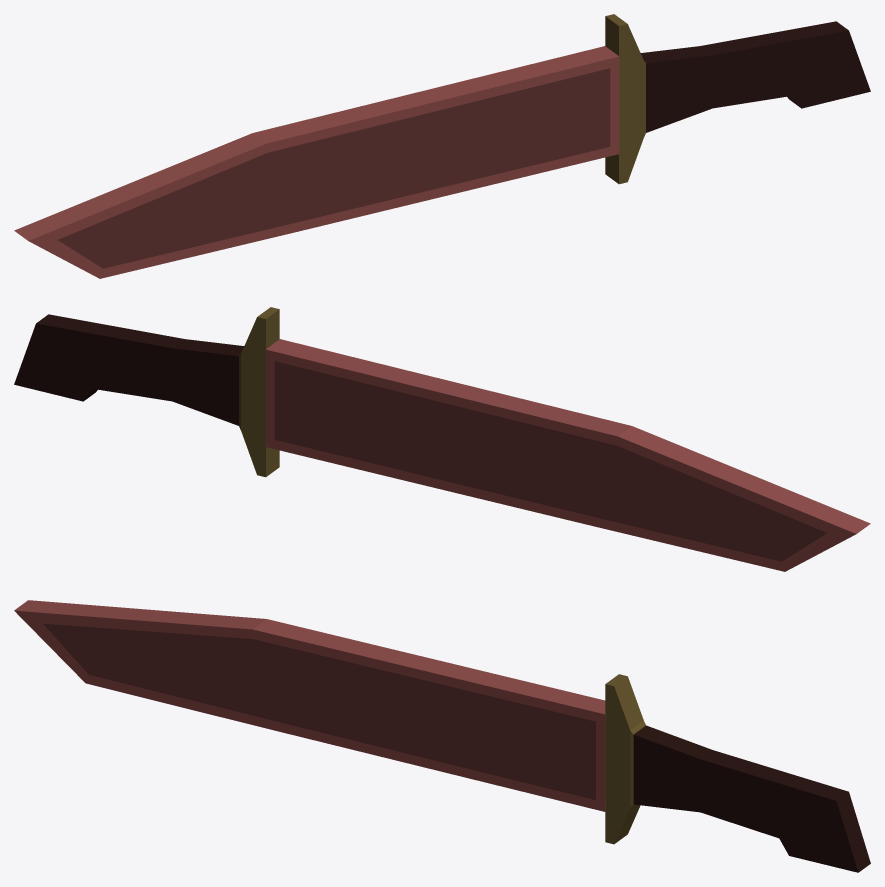
Rendered from knife.fbx.
3 views of the same model, one above another, from view 1: azimuth 30°, elevation 25°; view 2: azimuth 150°, elevation 25°; view 3: azimuth 330°, elevation 25° (orthographic).
Parts seen in each view (by area): view 1: Bowie_Knife_Sheath, Bowie_Knife; view 2: Bowie_Knife_Sheath, Bowie_Knife; view 3: Bowie_Knife_Sheath, Bowie_Knife.
Boxes of the visible parts, box(x1,y1,x2,y2) form: Bowie_Knife_Sheath: box(14, 46, 619, 278); Bowie_Knife: box(605, 14, 870, 184); Bowie_Knife_Sheath: box(265, 339, 870, 571); Bowie_Knife: box(14, 307, 279, 477); Bowie_Knife_Sheath: box(14, 600, 605, 811); Bowie_Knife: box(605, 674, 870, 872).
Bounding box in the file's own units: 0.5268 × 0.0944 × 0.0155.
